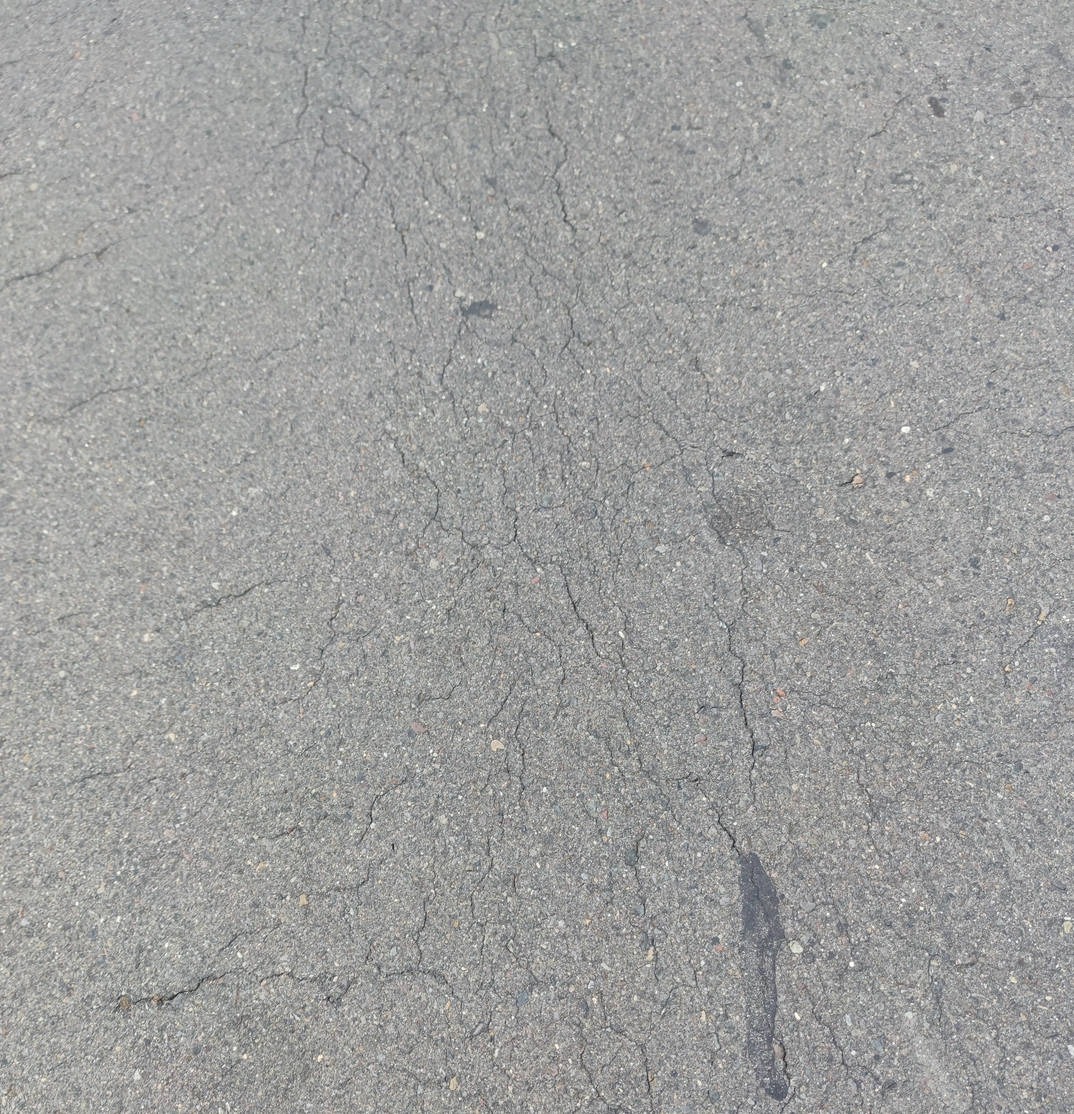GRIETA: (135, 966, 333, 1005)
PIEL DE COCODRILO: (275, 0, 910, 1113)
